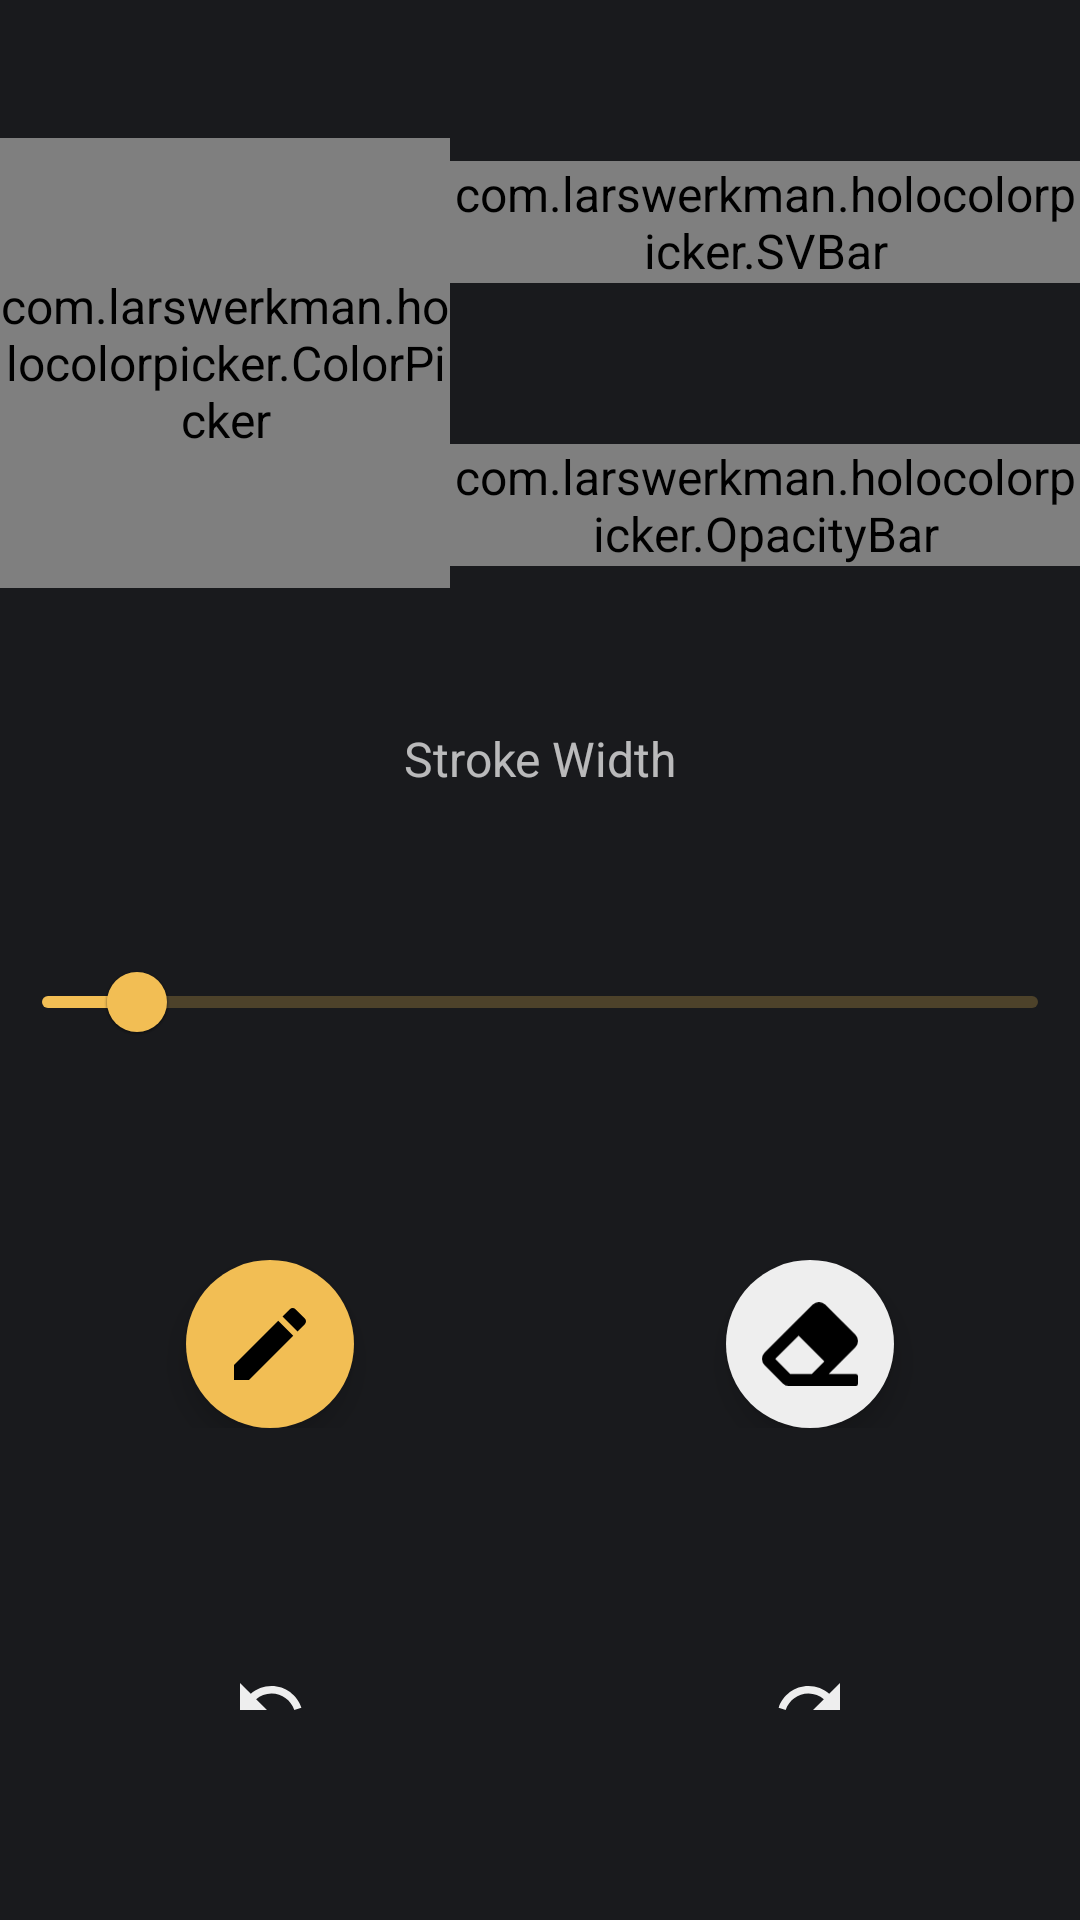

Screen size 1080w x 1920h. Icon name, then its box in pixels as (x1, y1, x2, y2):
Eraser: (726, 1260, 894, 1428)
Pencil: (186, 1260, 354, 1428)
Redo: (778, 1683, 840, 1710)
Undo: (240, 1683, 302, 1710)
